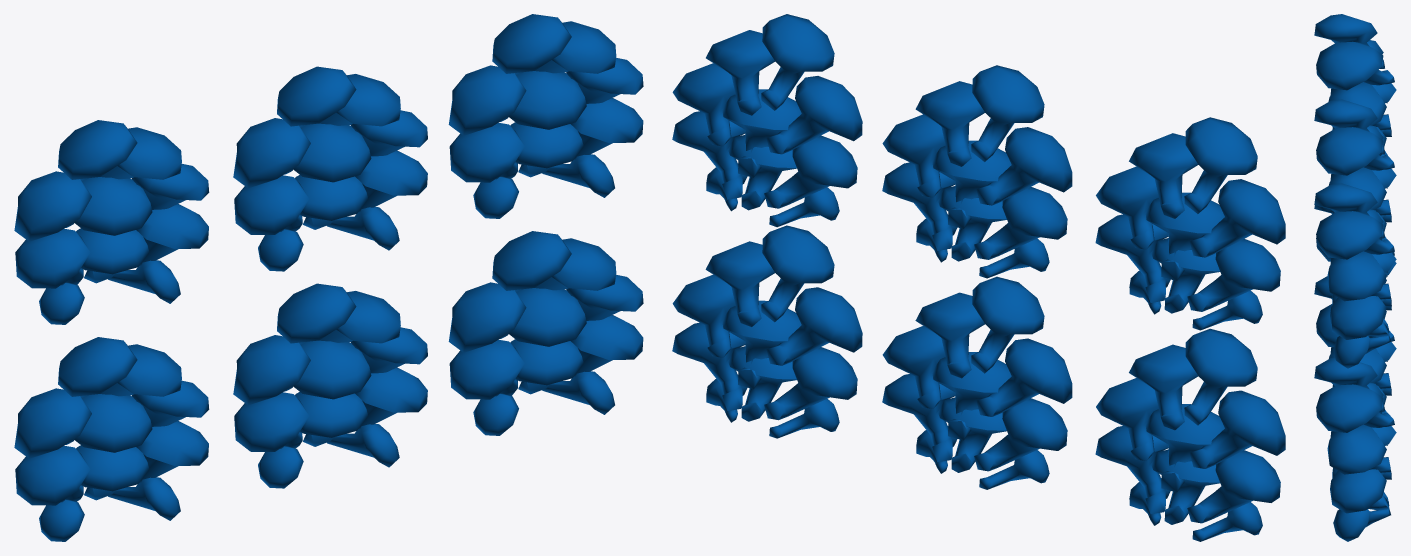
Rendered from mushrooms.glb.
3 renders of one model, left to right at view 1: azimuth 30°, elevation 25°; view 2: azimuth 150°, elevation 25°; view 3: azimuth 270°, elevation 25°, orthographic. The views are drawn at different scales.
Visible parts, largest first — view 1: Sphere.005; view 2: Sphere.005; view 3: Sphere.005.
Boxes of the visible parts, x1,y1,x2,y2 form: Sphere.005: (14,14,643,541); Sphere.005: (672,14,1285,541); Sphere.005: (1314,14,1396,541).
Bounding box in the file's own units: 1.15 × 0.7274 × 0.165.
Materials: 6 (6 with a texture image).
